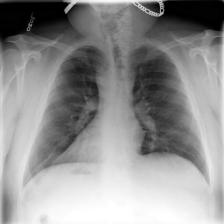normal: (21, 42, 212, 186)
